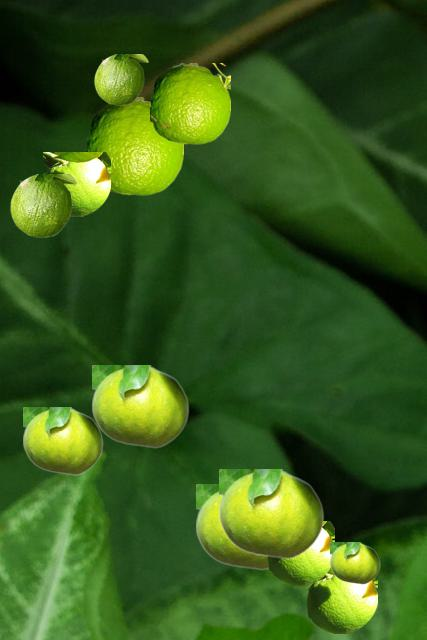dalandan: (86, 97, 182, 194), (219, 469, 323, 558), (92, 365, 188, 447), (150, 63, 229, 143), (196, 484, 267, 569), (23, 407, 102, 474), (306, 570, 376, 632), (267, 521, 333, 584), (43, 152, 109, 215), (10, 174, 76, 236), (94, 54, 147, 104), (330, 542, 379, 583)
